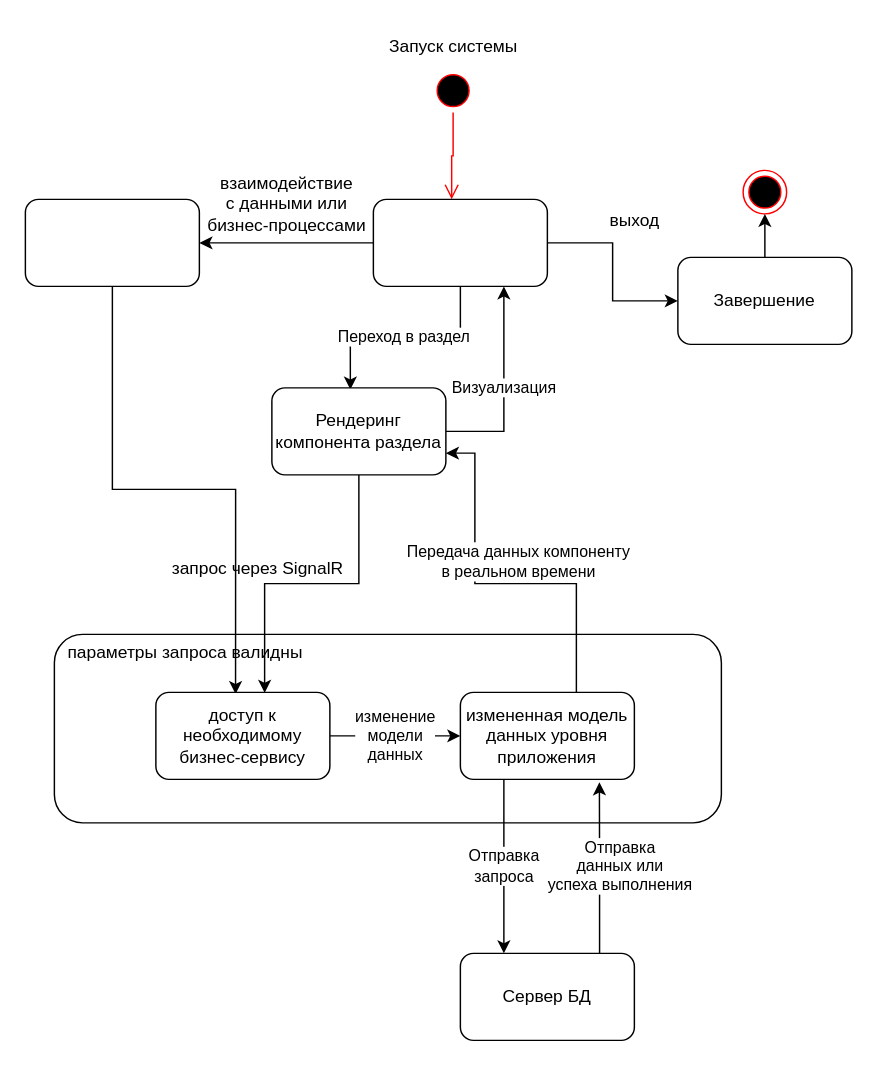
This 877x1066 diagram has some shape labels left out. Here are the shapes that lost their labels. From the top down, the centre of each, then its label:
At (x=111, y=242): "Отправка введенных данных".
At (x=459, y=242): "Ожидание ввода от пользователя".
